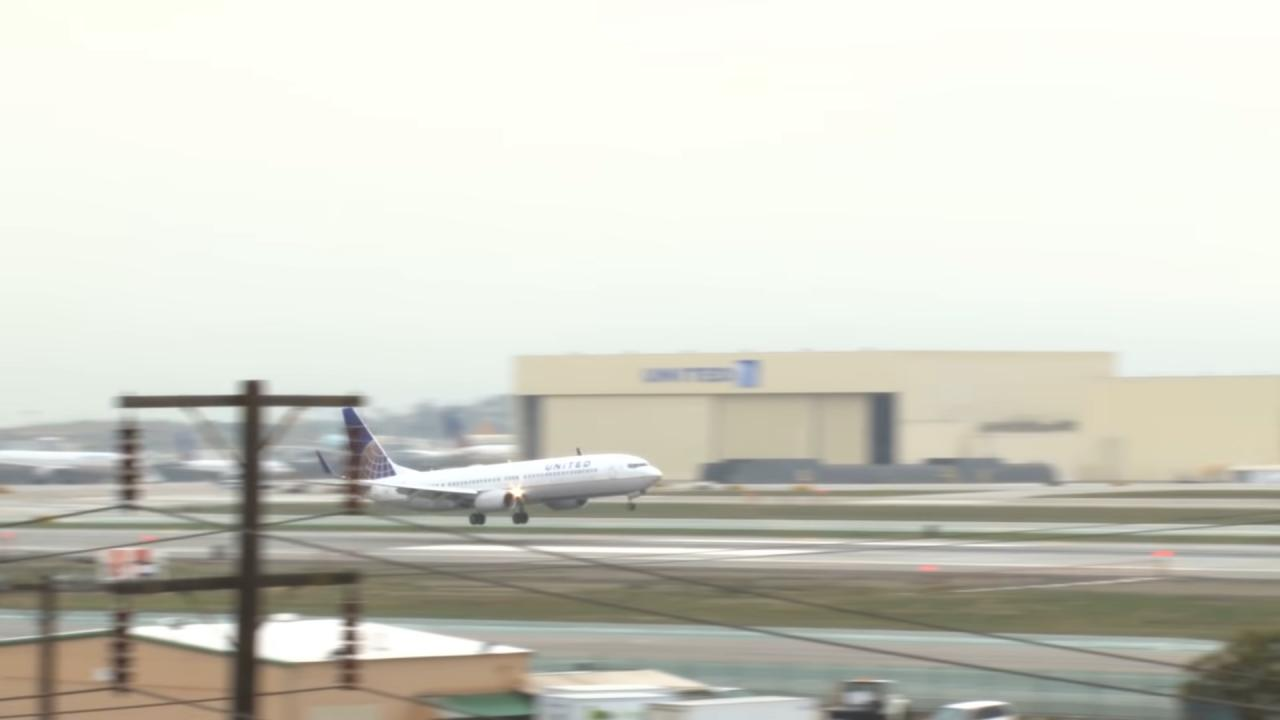Airplane: (298, 399, 676, 538)
